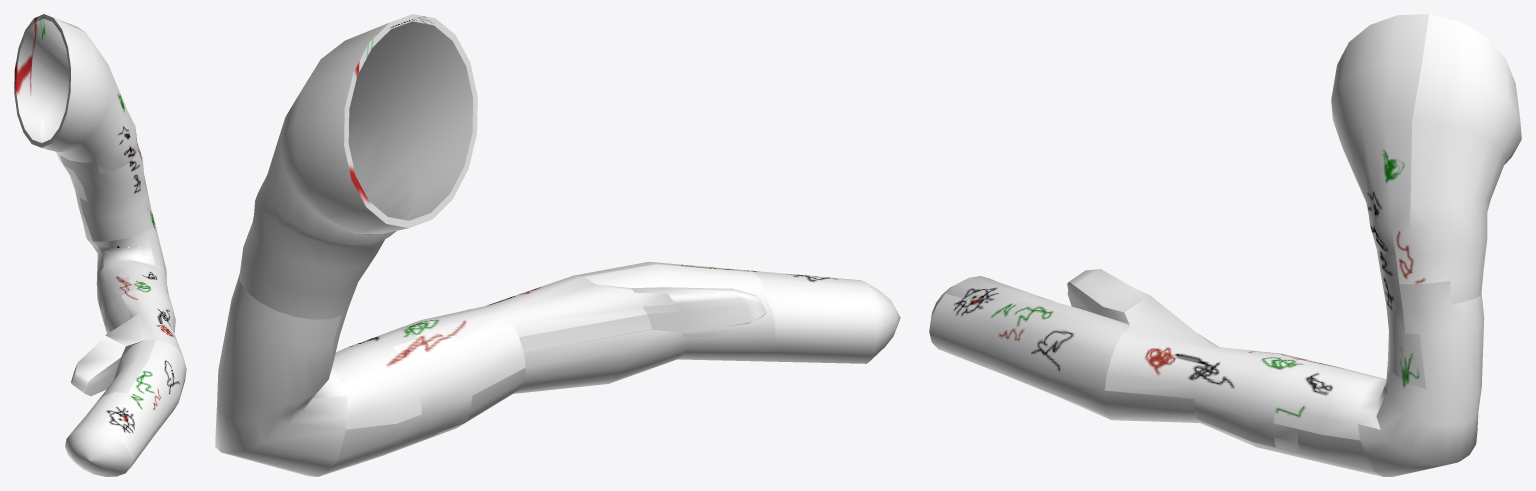
The model's file is gypsum.FBX.
3 renders of one model, left to right at view 1: azimuth 30°, elevation 25°; view 2: azimuth 150°, elevation 25°; view 3: azimuth 270°, elevation 25°, orthographic. The views are drawn at different scales.
Visible parts, largest first — view 1: Object002, Object001, Object003, Object010, Object009, Object008, Object005, Object007, Object006, Object004; view 2: Object001, Object002, Object004, Object008, Object006, Object009, Object007, Object005, Object010; view 3: Object001, Object010, Object004, Object002, Object007, Object005, Object008, Object003, Object006, Object009.
Part boxes in pixels (x1,y1,x2,y2): Object002: (32,18,137,173); Object001: (14,14,142,201); Object003: (59,151,155,241); Object010: (105,326,186,467); Object009: (65,392,138,476); Object008: (71,335,155,401); Object005: (93,231,170,310); Object007: (105,282,183,357); Object006: (96,276,144,332); Object004: (75,160,166,282); Object001: (240,22,432,319); Object002: (348,14,477,220); Object004: (215,273,347,476); Object008: (513,264,775,393); Object006: (319,321,525,476); Object009: (748,270,900,363); Object007: (396,276,674,341); Object005: (313,329,421,429); Object010: (462,261,752,424); Object001: (1391,14,1521,304); Object010: (929,294,1255,446); Object004: (1357,281,1484,476); Object002: (1331,14,1428,255); Object007: (1104,295,1297,447); Object005: (1273,359,1390,440); Object008: (1018,269,1149,332); Object003: (1377,250,1426,389); Object006: (1268,353,1382,476); Object009: (931,276,1038,318).
Size of the model in its own units: 238 by 275 by 355.
